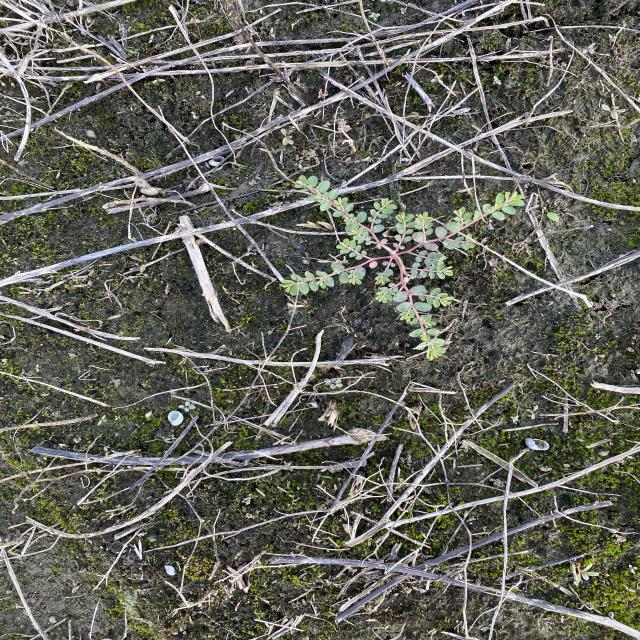SpottedSpurge: (277, 174, 529, 362)
